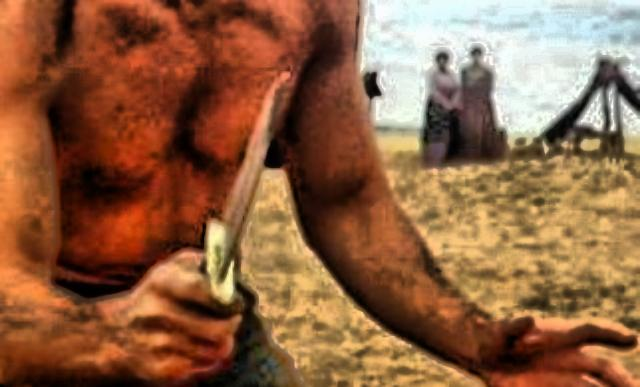knife: (160, 56, 298, 376)
